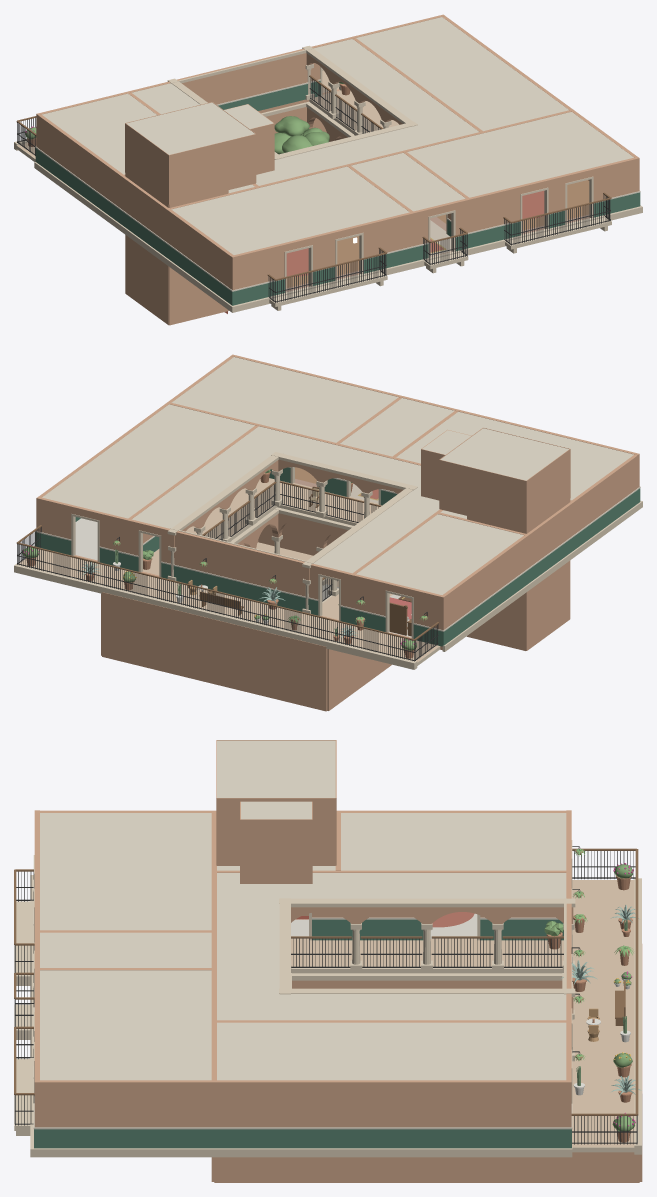
3 renders of one model, top to bottom at view 1: azimuth 30°, elevation 25°; view 2: azimuth 150°, elevation 25°; view 3: azimuth 270°, elevation 25°, orthographic. The views are drawn at different scales.
Visible parts, largest first — view 1: pa_techo, pa_muro_h0_0, pa_escalera_arriba, pa_muro_v0_0, pa_muro_h300_0, pa_balcon_rej, pa_escalera_cubo, pa_escalera_arriba_techo, pa_muro_h0_0_lam, pa_entrepiso_cor, pa_muro_v0_0_lam, pa_piso_duela (+21 smaller); view 2: pa_techo, pa_abajo_pared, pa_muro_h300_0, pa_piso_corredor, pa_escalera_arriba, pa_muro_v0_0, pa_balcon_t_rej, pa_escalera_cubo, pa_escalera_arriba_techo, pa_muro_h300_0_lam, pa_balcon_t_borde, pa_muro_v0_0_lam (+20 smaller); view 3: pa_techo, pa_muro_v360_0, pa_piso_corredor, pa_abajo_pared, pa_muro_v360_0_lam, pa_escalera_arriba, pa_escalera_arriba_techo, pa_entrepiso_cor, pa_muro_v80_100_lam, pa_barandal, pa_dintel_v120_cor, pa_dintel_v120 (+25 smaller).
Boxes of the visible parts, <box> form: pa_techo: <box>42,17,633,254</box>; pa_muro_h0_0: <box>230,156,639,290</box>; pa_escalera_arriba: <box>125,102,274,204</box>; pa_muro_v0_0: <box>38,114,233,288</box>; pa_muro_h300_0: <box>36,14,444,147</box>; pa_balcon_rej: <box>268,194,610,303</box>; pa_escalera_cubo: <box>125,235,228,325</box>; pa_escalera_arriba_techo: <box>126,102,273,154</box>; pa_muro_h0_0_lam: <box>230,192,640,305</box>; pa_entrepiso_cor: <box>34,162,642,312</box>; pa_muro_v0_0_lam: <box>38,150,229,303</box>; pa_piso_duela: <box>286,180,589,287</box>; pa_techo: <box>42,357,633,594</box>; pa_abajo_pared: <box>101,521,391,711</box>; pa_muro_h300_0: <box>36,496,445,630</box>; pa_piso_corredor: <box>19,478,439,662</box>; pa_escalera_arriba: <box>421,427,570,530</box>; pa_muro_v0_0: <box>442,454,637,628</box>; pa_balcon_t_rej: <box>17,527,438,661</box>; pa_escalera_cubo: <box>466,560,570,650</box>; pa_escalera_arriba_techo: <box>422,428,568,480</box>; pa_muro_h300_0_lam: <box>35,532,445,646</box>; pa_balcon_t_borde: <box>14,563,417,669</box>; pa_muro_v0_0_lam: <box>446,490,637,643</box>; pa_techo: <box>40,813,566,1080</box>; pa_muro_v360_0: <box>40,1080,566,1127</box>; pa_piso_corredor: <box>291,880,634,1147</box>; pa_abajo_pared: <box>211,944,642,1182</box>; pa_muro_v360_0_lam: <box>40,1129,565,1148</box>; pa_escalera_arriba: <box>216,740,336,883</box>; pa_escalera_arriba_techo: <box>217,740,335,819</box>; pa_entrepiso_cor: <box>30,875,572,1157</box>; pa_muro_v80_100_lam: <box>312,919,563,940</box>; pa_barandal: <box>291,938,563,967</box>; pa_dintel_v120_cor: <box>279,898,575,907</box>; pa_dintel_v120: <box>291,907,573,923</box>.
Bounding box in the file's own units: 36.6 × 14.84 × 35.49.
